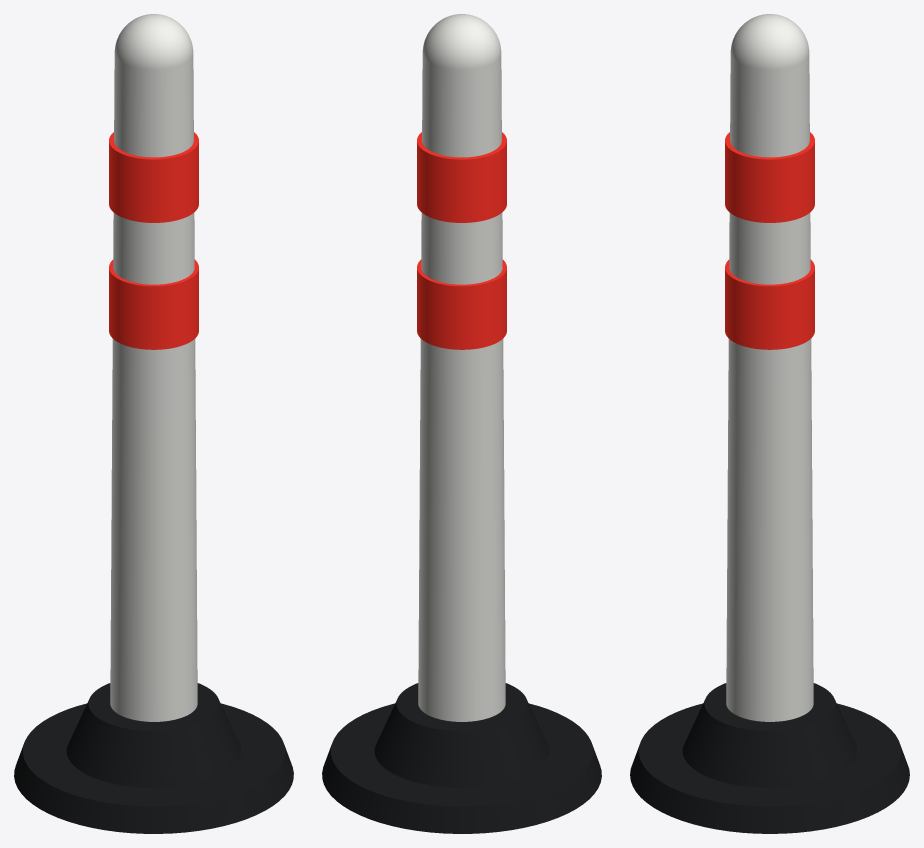
3 renders of one model, left to right at view 1: azimuth 30°, elevation 25°; view 2: azimuth 150°, elevation 25°; view 3: azimuth 270°, elevation 25°, orthographic.
Parts seen in each view (by area): view 1: opt_color_white, jp-facility-rubber-pole; view 2: opt_color_white, jp-facility-rubber-pole; view 3: opt_color_white, jp-facility-rubber-pole.
Boxes of the visible parts, x1,y1,x2,y2 form: opt_color_white: (109,14,198,721); jp-facility-rubber-pole: (14,683,293,833); opt_color_white: (417,14,506,721); jp-facility-rubber-pole: (322,683,601,833); opt_color_white: (725,14,814,721); jp-facility-rubber-pole: (630,683,909,833).
Size of the model in its own units: 0.32 by 0.955 by 0.32.
